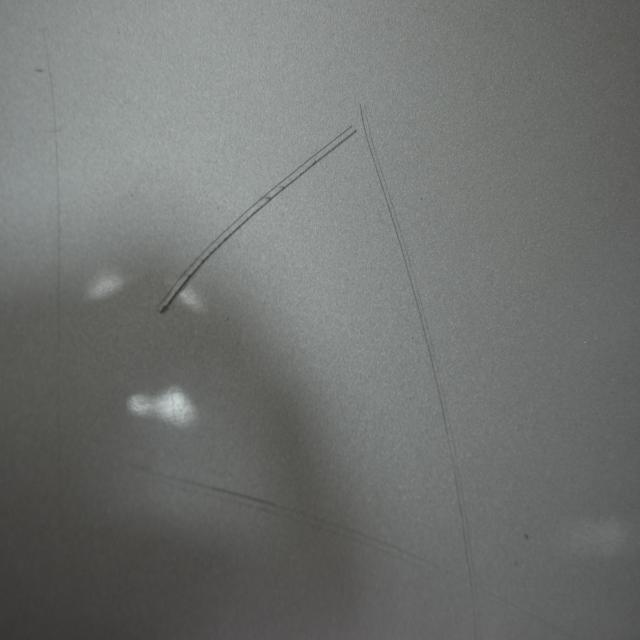dirt: (520, 524, 532, 547)
scratch: (126, 450, 575, 640), (351, 89, 488, 640), (151, 119, 361, 322), (35, 18, 75, 553)
